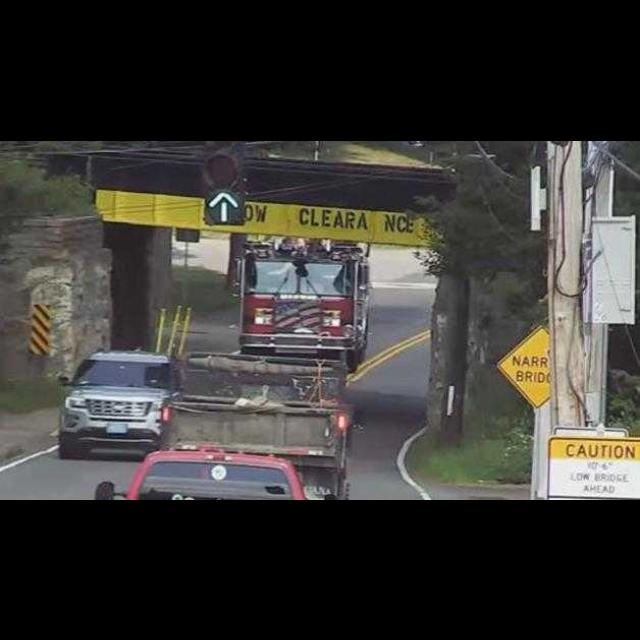emergency: (236, 239, 370, 371)
